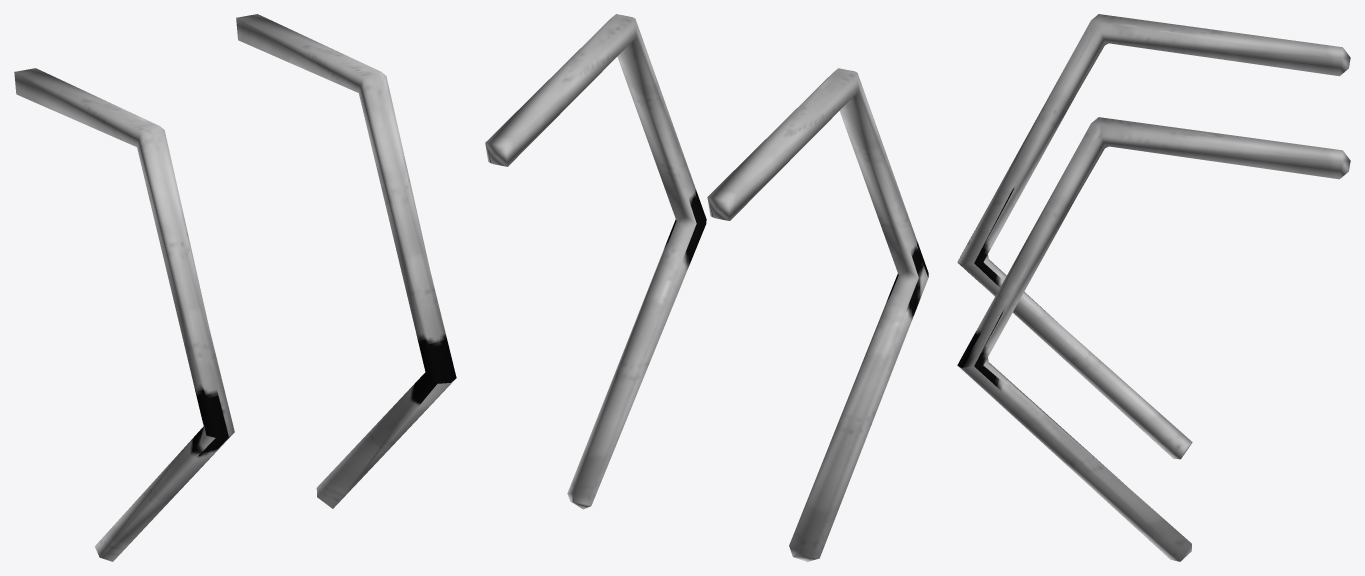
The model's file is UpperTorso_C2.fbx.
3 views of the same model, side by side, from view 1: azimuth 30°, elevation 25°; view 2: azimuth 150°, elevation 25°; view 3: azimuth 270°, elevation 25° (orthographic). The views are drawn at different scales.
Visible parts, largest first — view 1: Civ_Mochila_UpperTorso_C2; view 2: Civ_Mochila_UpperTorso_C2; view 3: Civ_Mochila_UpperTorso_C2.
Boxes of the visible parts, box(x1,y1,x2,y2) form: Civ_Mochila_UpperTorso_C2: box(14, 14, 456, 561); Civ_Mochila_UpperTorso_C2: box(485, 14, 928, 561); Civ_Mochila_UpperTorso_C2: box(957, 14, 1350, 561).
Size of the model in its own units: 0.9812 by 1.74 by 1.41.
